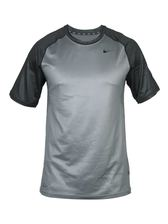clothoes: (8, 22, 163, 202)
